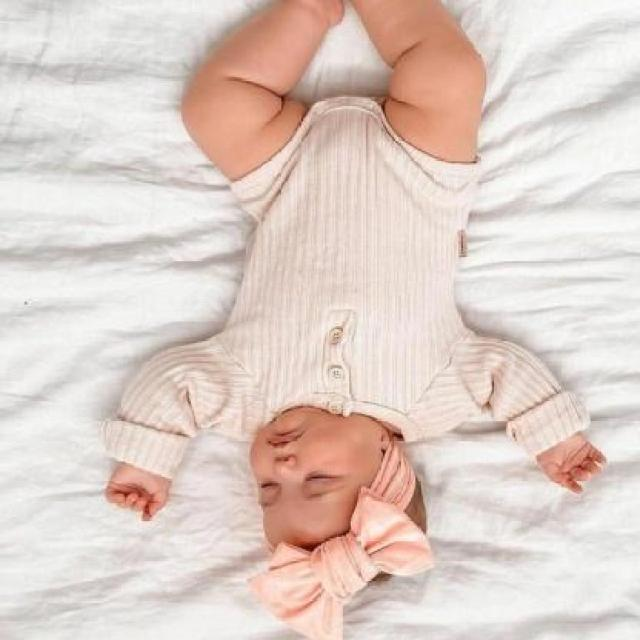baby: (103, 2, 606, 590)
